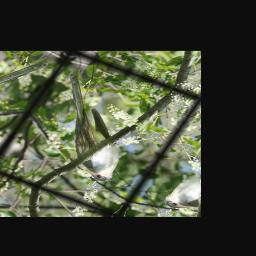Cuckoo: (14, 68, 172, 188)
